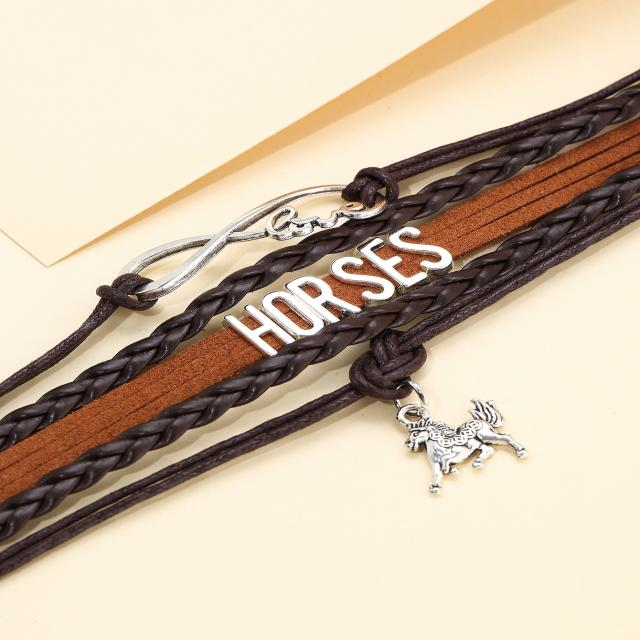bracelet: (10, 0, 640, 589)
